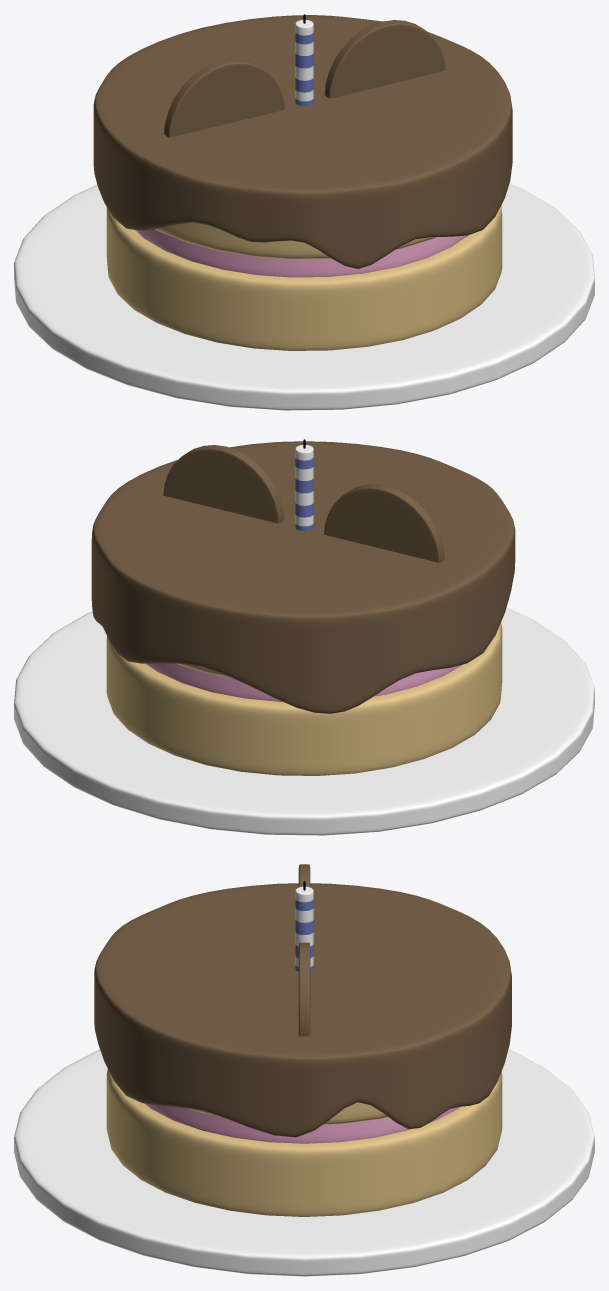
Rendered from cake.fbx.
3 renders of one model, top to bottom at view 1: azimuth 30°, elevation 25°; view 2: azimuth 150°, elevation 25°; view 3: azimuth 270°, elevation 25°, orthographic.
Visible parts, largest first — view 1: pCylinder13; view 2: pCylinder13; view 3: pCylinder13.
Part boxes in pixels (bbox=[...]): pCylinder13: bbox=[14, 14, 594, 410]; pCylinder13: bbox=[14, 439, 594, 835]; pCylinder13: bbox=[14, 864, 594, 1276].
Size of the model in its own units: 9.16 by 4.77 by 9.16.
